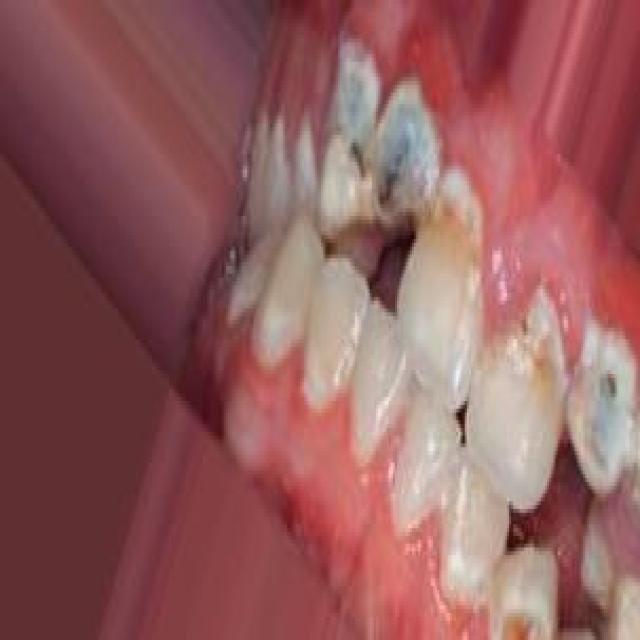caries: (570, 327, 640, 494), (366, 103, 444, 235)
